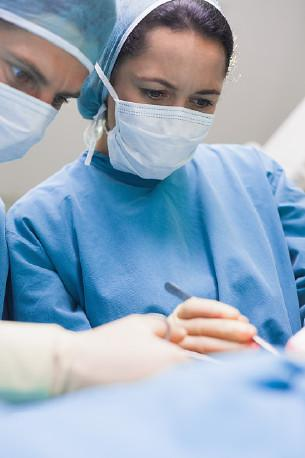OK: (107, 58, 228, 179), (1, 40, 86, 165)
